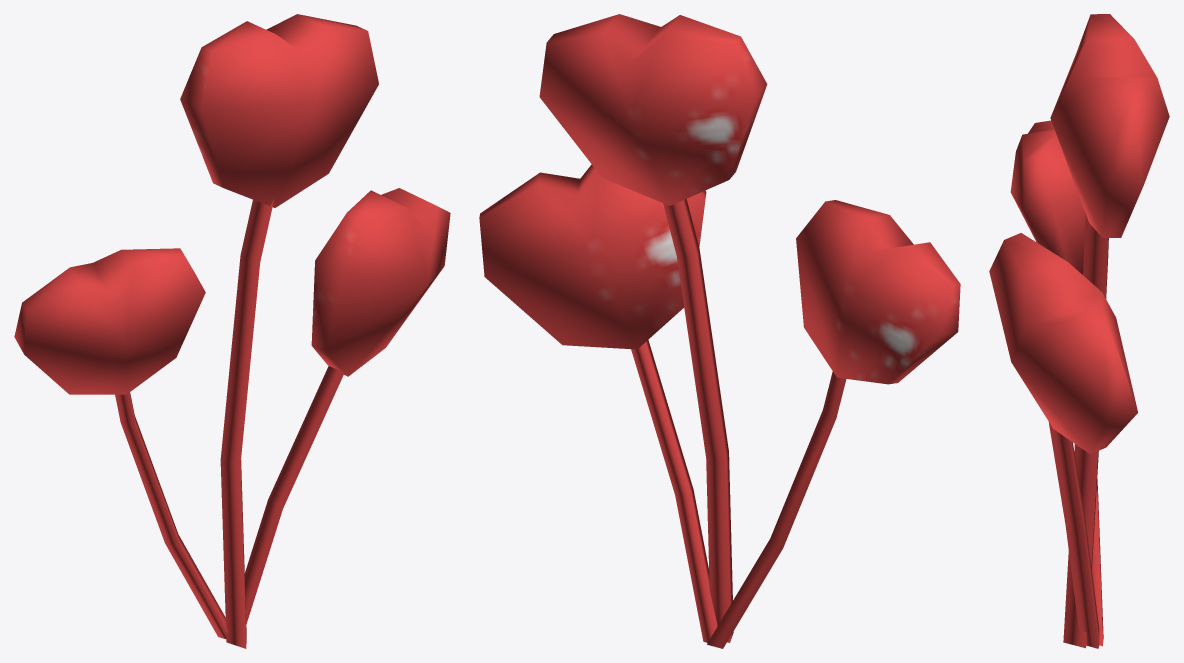
Rendered from Flower.fbx.
3 renders of one model, left to right at view 1: azimuth 30°, elevation 25°; view 2: azimuth 150°, elevation 25°; view 3: azimuth 270°, elevation 25°, orthographic. The views are drawn at different scales.
Visible parts, largest first — view 1: Flower; view 2: Flower; view 3: Flower.
Part boxes in pixels (x1,y1,x2,y2): Flower: (14,14,450,648); Flower: (479,14,960,648); Flower: (989,14,1169,648).
Size of the model in its own units: 1.17 by 1.5 by 0.3926.
Materials: 1 (1 with a texture image).
